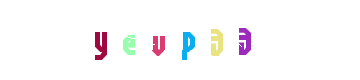3: (172, 0, 252, 80), (204, 0, 284, 80)
E: (91, 0, 171, 80)
P: (147, 0, 227, 80)
V: (140, 0, 220, 80)
Y: (84, 0, 164, 80)
